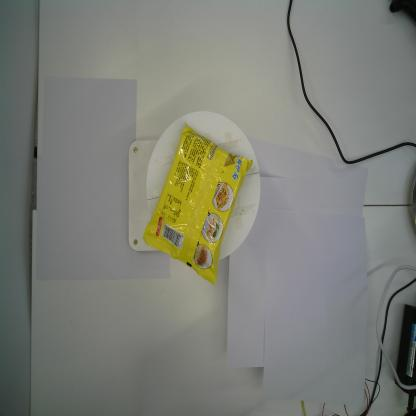Instant Noodles: (141, 120, 252, 286)
